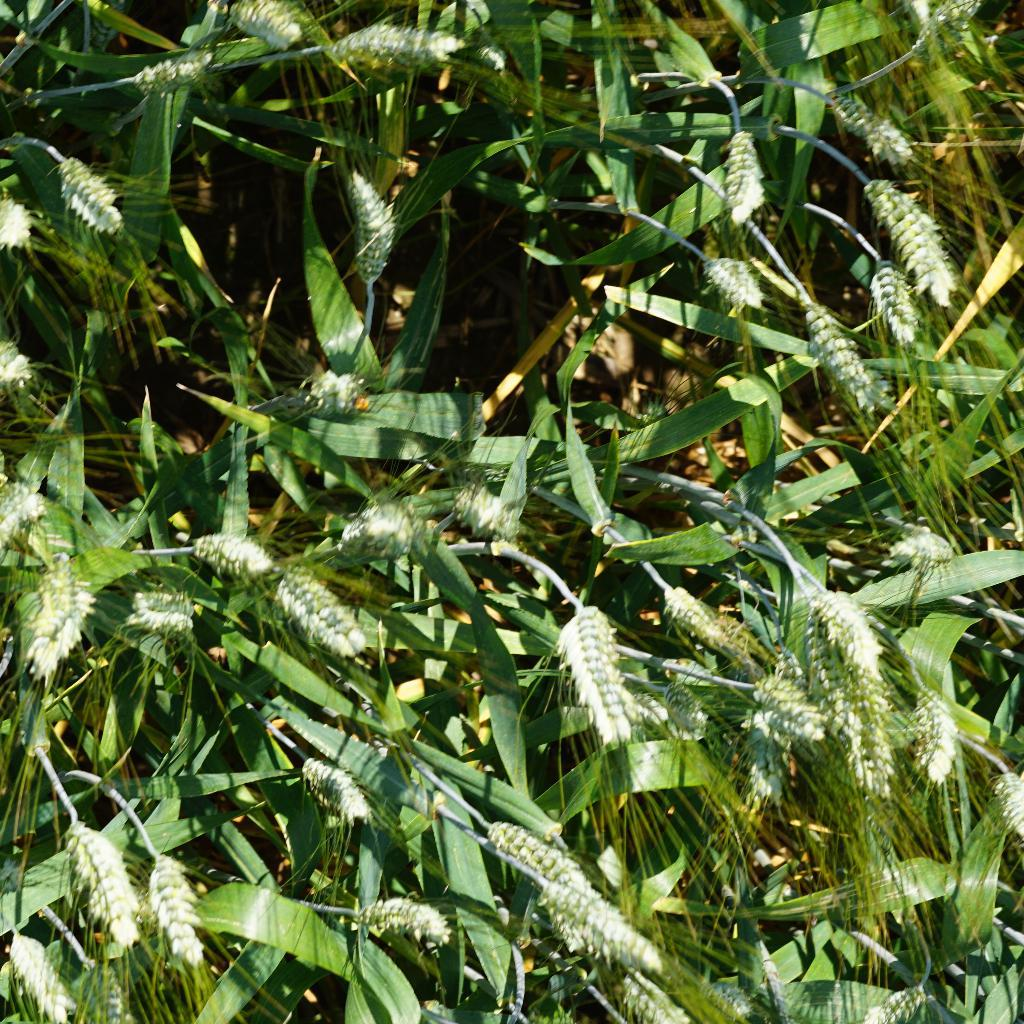0-0: (844, 154, 968, 309), (557, 595, 647, 765), (52, 795, 150, 949), (529, 875, 677, 970), (135, 832, 223, 976), (799, 288, 892, 422), (260, 556, 370, 665), (481, 811, 604, 904), (10, 541, 92, 673), (336, 159, 415, 294), (660, 576, 777, 665), (823, 71, 933, 165), (324, 9, 463, 80), (0, 920, 90, 1024), (888, 664, 964, 787), (806, 583, 901, 681), (335, 885, 462, 957), (48, 141, 134, 242), (833, 684, 907, 799), (175, 511, 279, 585), (294, 748, 377, 832), (706, 129, 777, 224), (133, 47, 231, 114), (610, 964, 718, 1024), (329, 500, 415, 574), (109, 571, 202, 639), (747, 672, 834, 743), (212, 0, 322, 53), (68, 950, 141, 1024), (867, 257, 923, 347), (617, 391, 678, 470), (699, 249, 769, 316), (295, 357, 373, 417), (653, 657, 710, 735), (881, 514, 955, 572), (860, 964, 931, 1024), (0, 474, 53, 553), (920, 0, 992, 54), (445, 484, 515, 538), (688, 973, 762, 1022), (746, 748, 795, 810), (0, 332, 48, 395), (469, 20, 515, 83), (0, 186, 40, 253)
